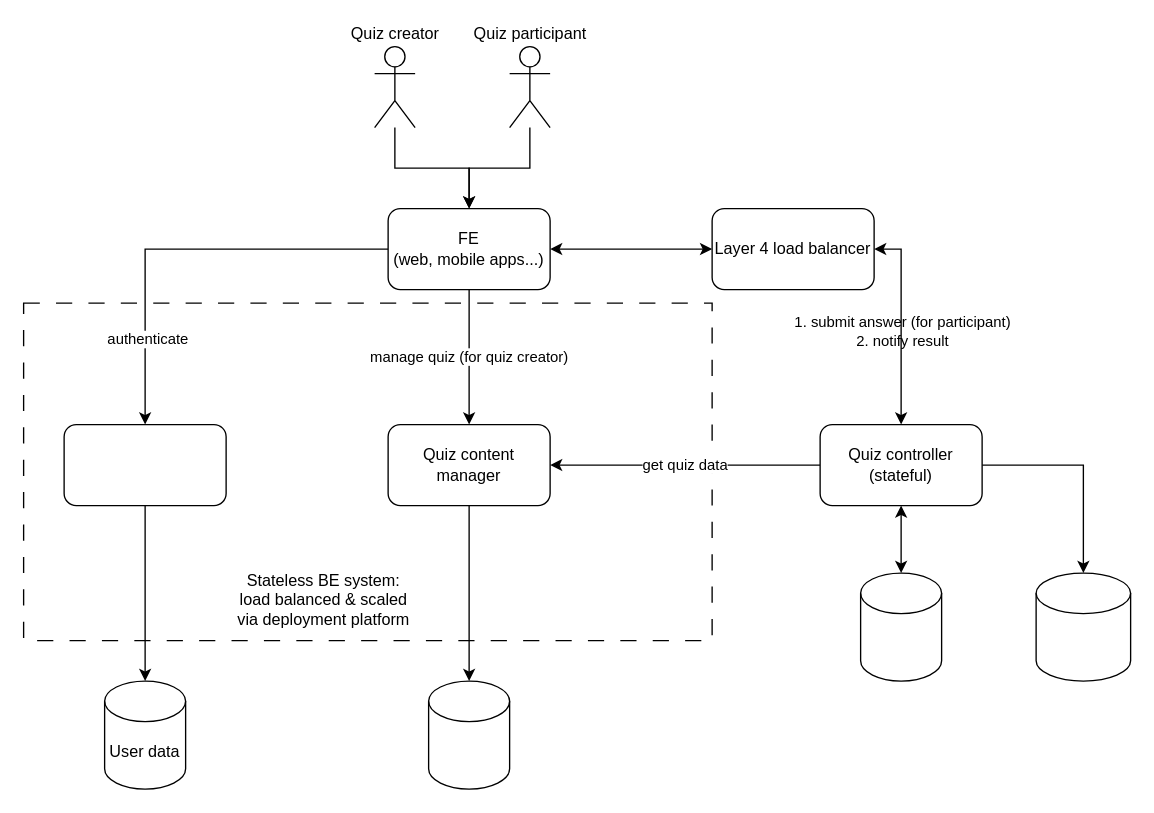
This 1154x813 diagram has some shape labels left out. The shapes that lost their labels are listed below. From the top down, each one's centre as x and y in pixels, then its label:
At point (144, 464): "User manager".
At point (900, 626): "Event broker".
At point (1083, 626): "Quiz user score".
At point (468, 734): "Quiz data".
